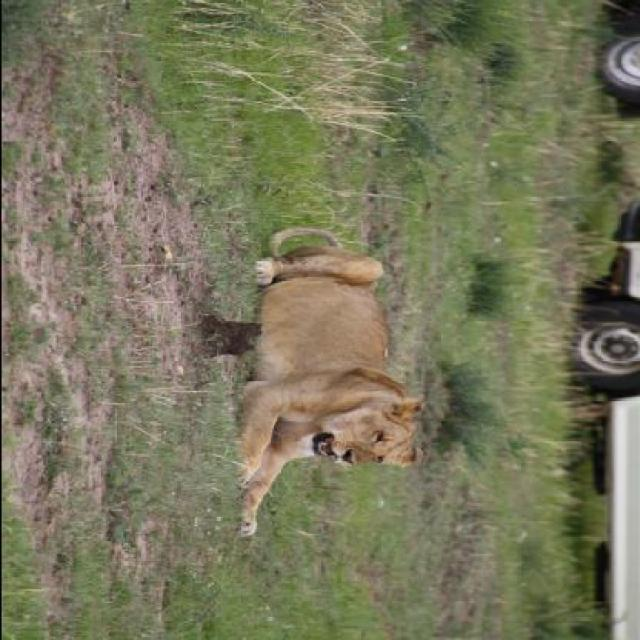Lion: (198, 208, 440, 546)
